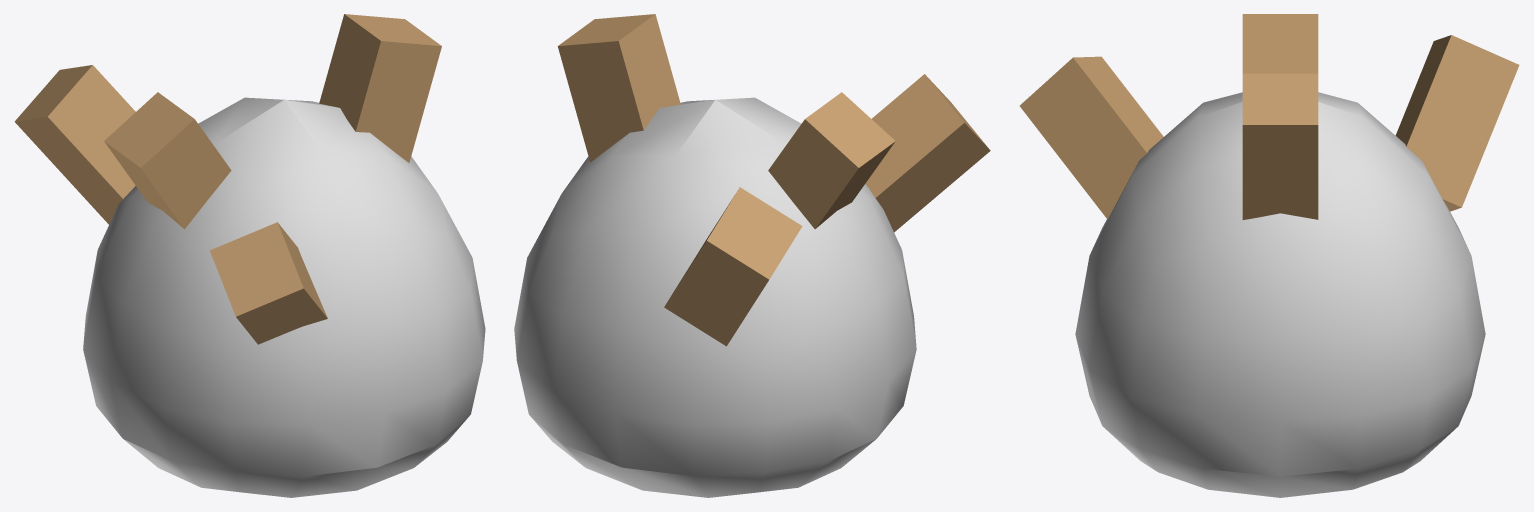
Rendered from ore.fbx.
The picture shows the model from 3 angles, left to right: view 1: azimuth 30°, elevation 25°; view 2: azimuth 150°, elevation 25°; view 3: azimuth 270°, elevation 25°; orthographic projection. The views are drawn at different scales.
Parts seen in each view (by area): view 1: Cube.008; view 2: Cube.008; view 3: Cube.008.
Boxes of the visible parts, x1,y1,x2,y2 form: Cube.008: (14,14,485,497); Cube.008: (514,14,990,497); Cube.008: (1019,14,1519,497).
Bounding box in the file's own units: 1.31 × 1.49 × 1.59.
